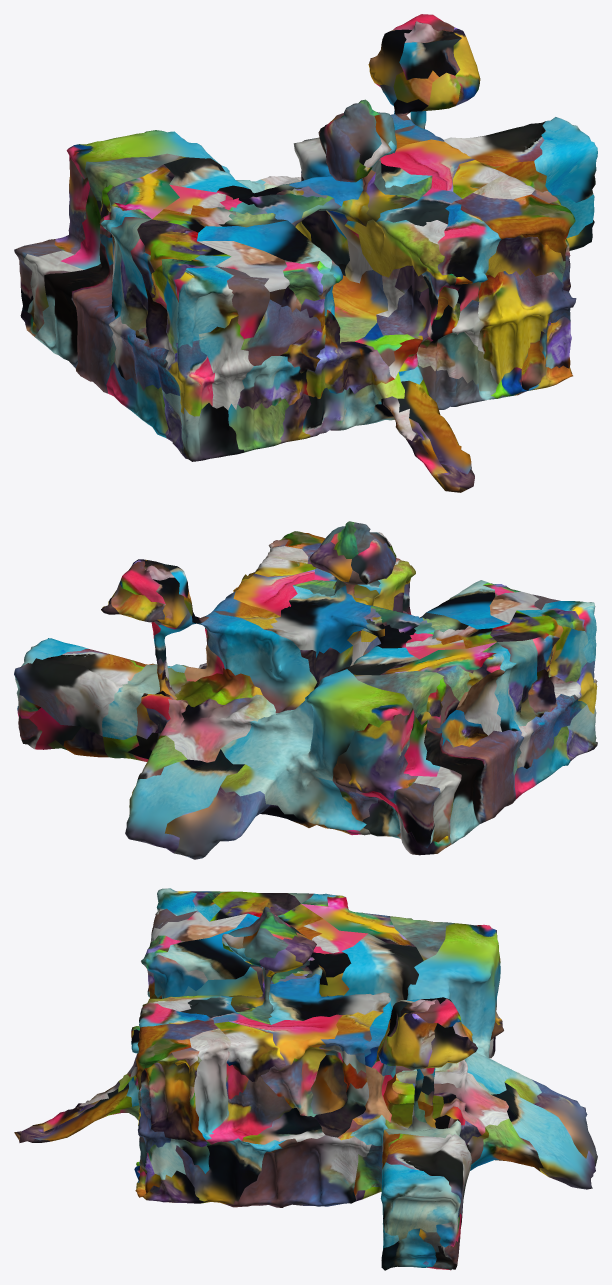
File: Burg_mit_Baum.fbx
The picture shows the model from 3 angles, top to bottom: view 1: azimuth 30°, elevation 25°; view 2: azimuth 150°, elevation 25°; view 3: azimuth 270°, elevation 25°; orthographic projection. The views are drawn at different scales.
Visible parts, largest first — view 1: 3DModel; view 2: 3DModel; view 3: 3DModel.
Boxes of the visible parts, x1,y1,x2,y2 form: 3DModel: [14, 14, 597, 492]; 3DModel: [14, 521, 597, 859]; 3DModel: [14, 888, 597, 1270].
Size of the model in its own units: 5167 by 2534 by 5441.
1 material, 1 textured.
